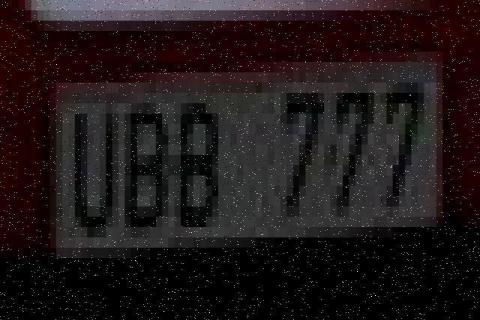LicensePlate: (23, 24, 458, 270)
